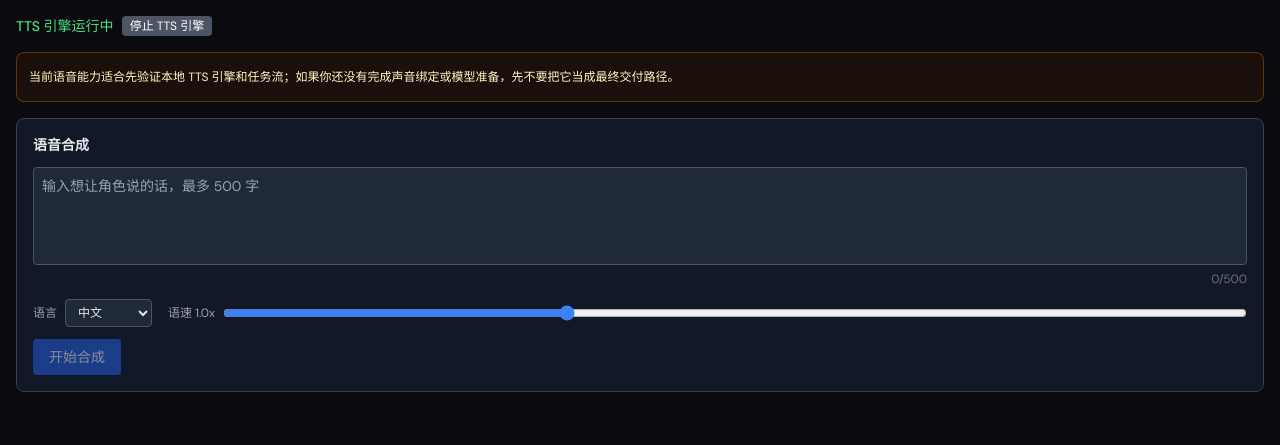
it: shows done state when task completes
The image size is (1280, 445).
In the text box with placeholder "输入想让角色说的话，最多 500 字": (640, 216) x1=33 y1=167 x2=1247 y2=265, type "你好"
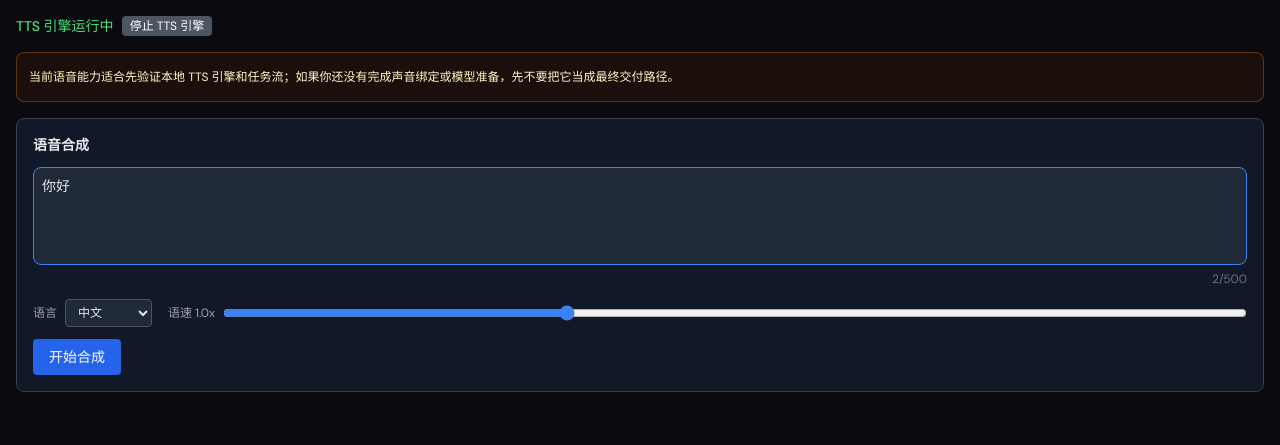
Click the button "开始合成": click(77, 357) x1=33 y1=339 x2=121 y2=375
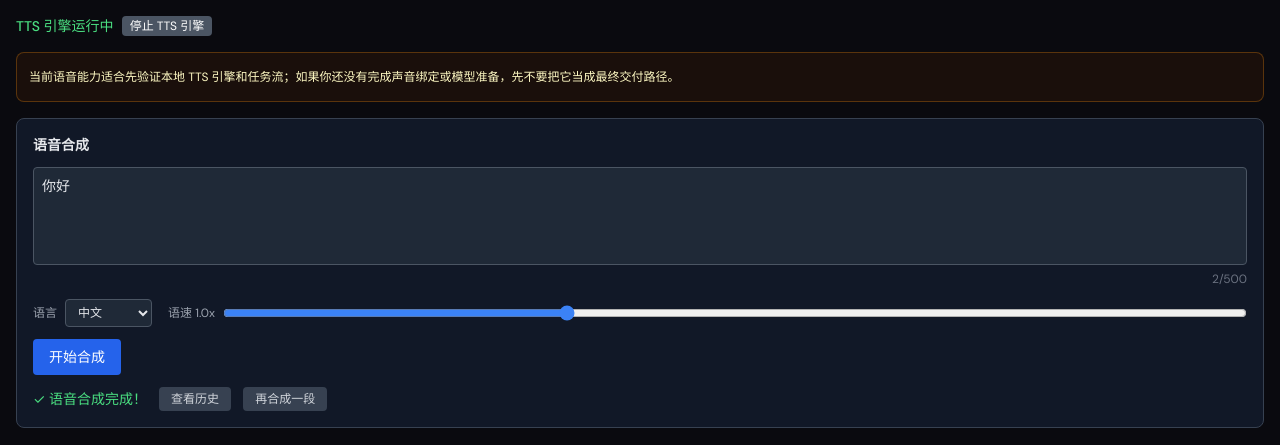
Now the text "✓ 语音合成完成！" is shown, box x1=33 y1=389 x2=147 y2=409
Now the button "查看历史" is shown, box x1=159 y1=387 x2=231 y2=411
